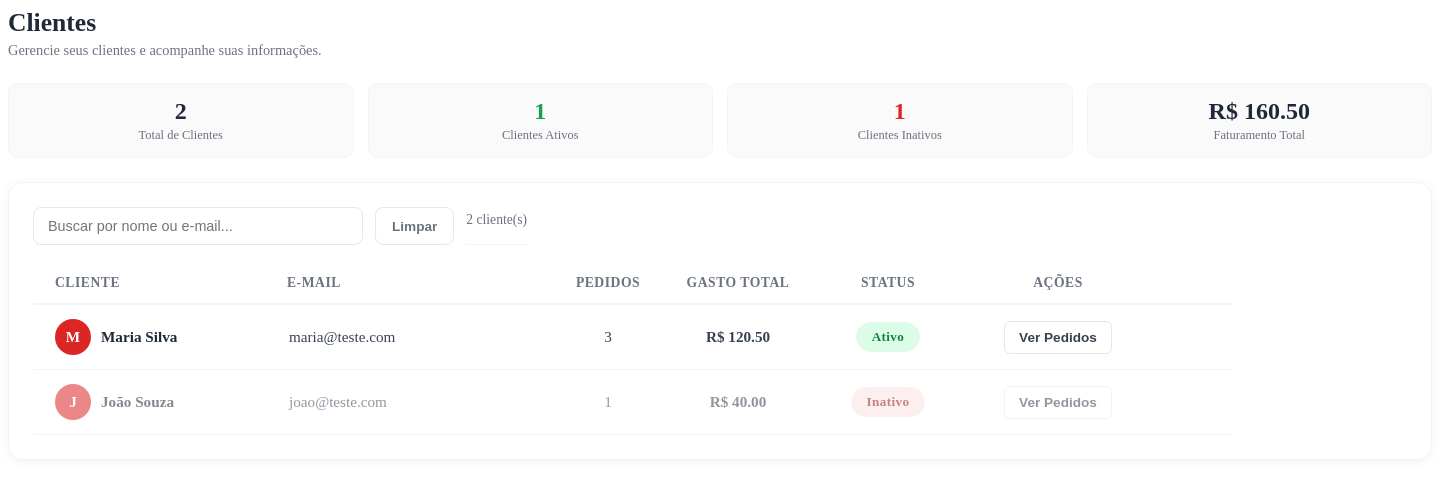
AdminClientes › filtra por nome ou e-mail
Expected: the text "Maria Silva" is shown, [101,328,177,346]
In the field with placeholder "Buscar por nome ou e-mail...": (198, 226) [33,207,363,245], type "joao@"
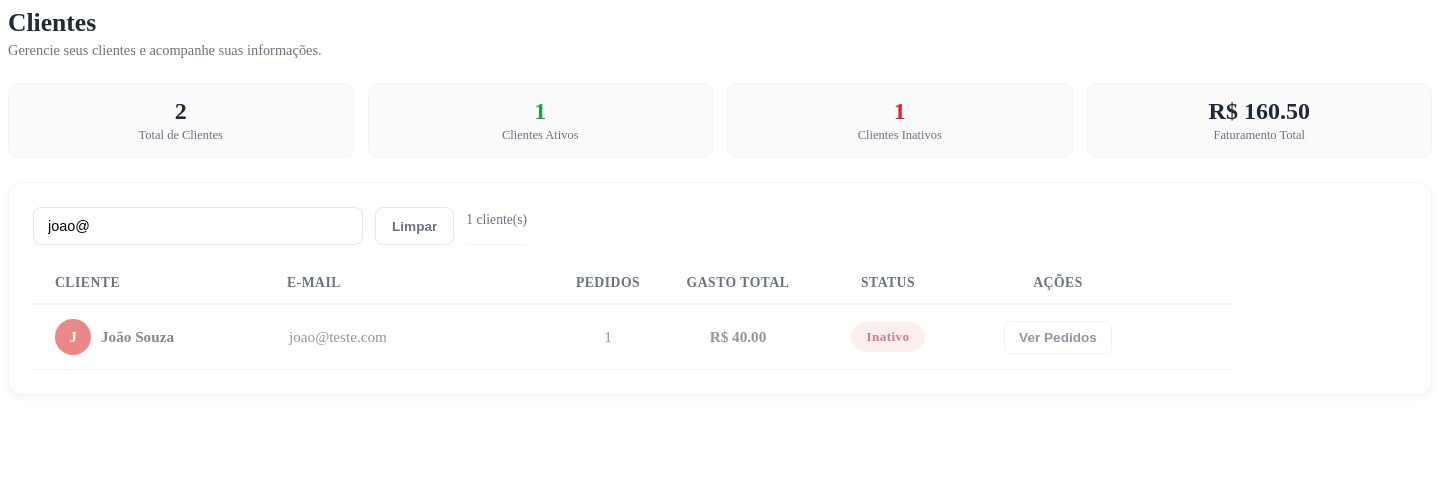
Expected: the text "João Souza" is shown, [101,328,174,346]
Expected: the text "Maria Silva" is gone
Expected: the text "1 cliente(s)" is shown, [466,207,527,245]
